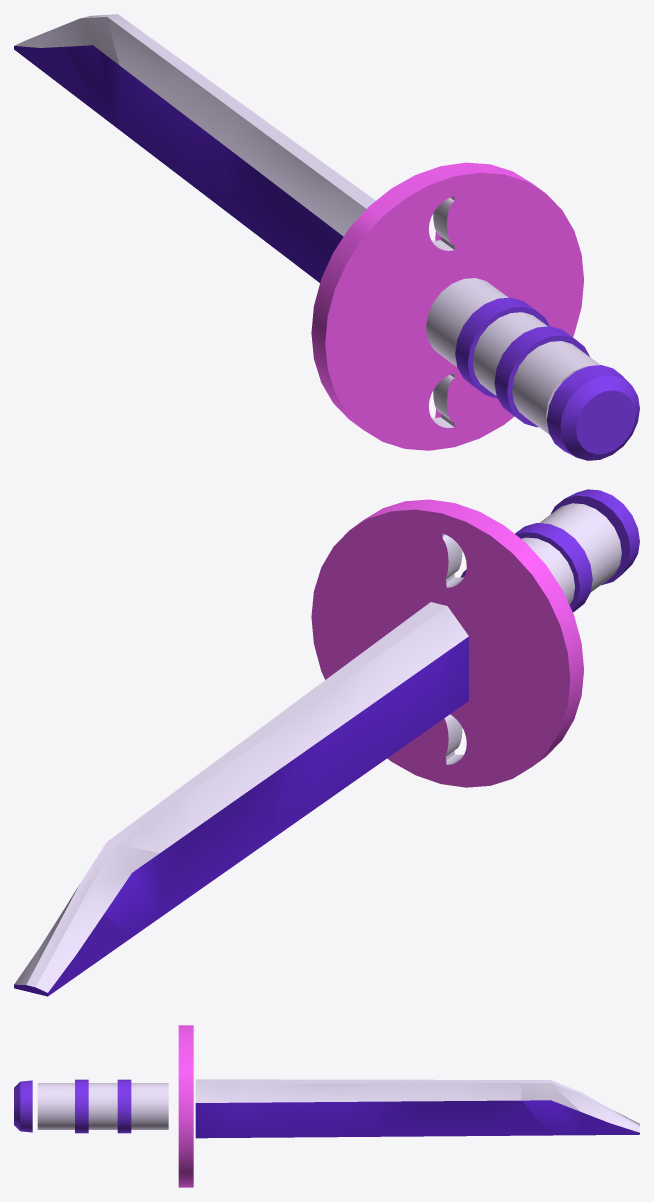
File: Sword_GloamTanto.glb
3 renders of one model, top to bottom at view 1: azimuth 30°, elevation 25°; view 2: azimuth 150°, elevation 25°; view 3: azimuth 270°, elevation 25°, orthographic. The views are drawn at different scales.
Parts seen in each view (by area): view 1: Sword_GloamTanto; view 2: Sword_GloamTanto; view 3: Sword_GloamTanto.
Boxes of the visible parts, x1,y1,x2,y2 form: Sword_GloamTanto: [14, 14, 639, 460]; Sword_GloamTanto: [14, 489, 639, 996]; Sword_GloamTanto: [14, 1025, 639, 1187].
Bounding box in the file's own units: 0.26 × 0.26 × 1.
1 material, 1 textured.
